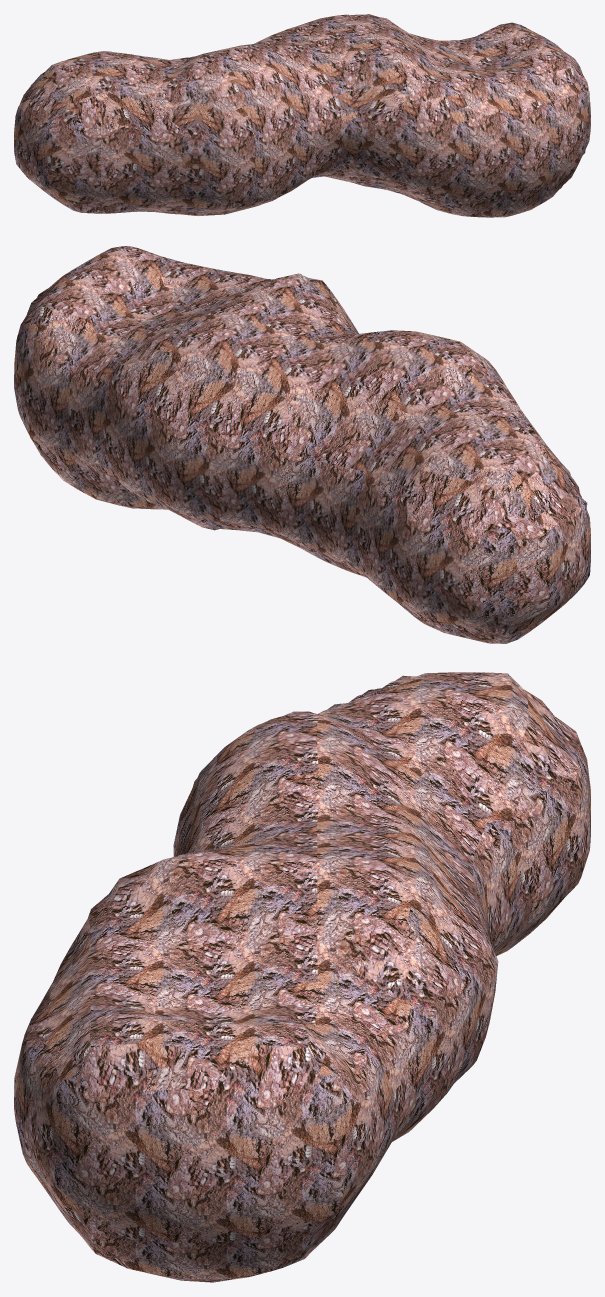
File: cave1.fbx
3 views of the same model, one above another, from view 1: azimuth 30°, elevation 25°; view 2: azimuth 150°, elevation 25°; view 3: azimuth 270°, elevation 25° (orthographic). The views are drawn at different scales.
Parts seen in each view (by area): view 1: Cave; view 2: Cave; view 3: Cave.
Boxes of the visible parts, x1,y1,x2,y2 form: Cave: [14, 14, 590, 217]; Cave: [14, 246, 590, 643]; Cave: [14, 672, 590, 1282].
Size of the model in its own units: 3083 by 1172 by 1824.
